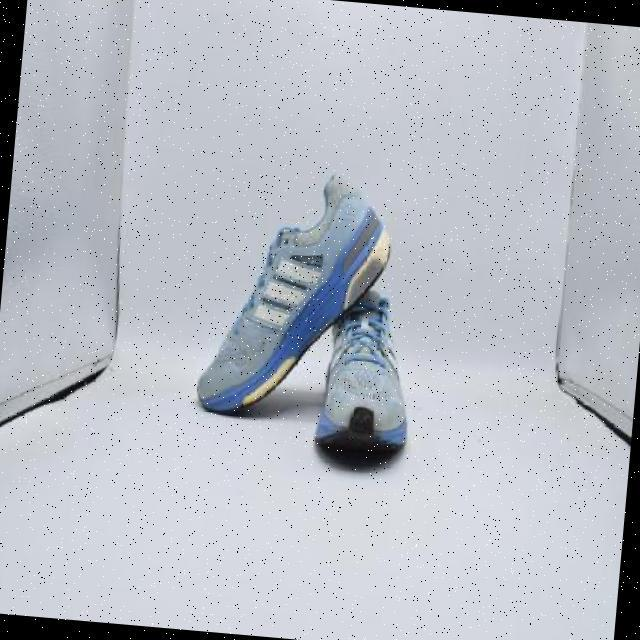Adidas: (254, 248, 323, 353)
